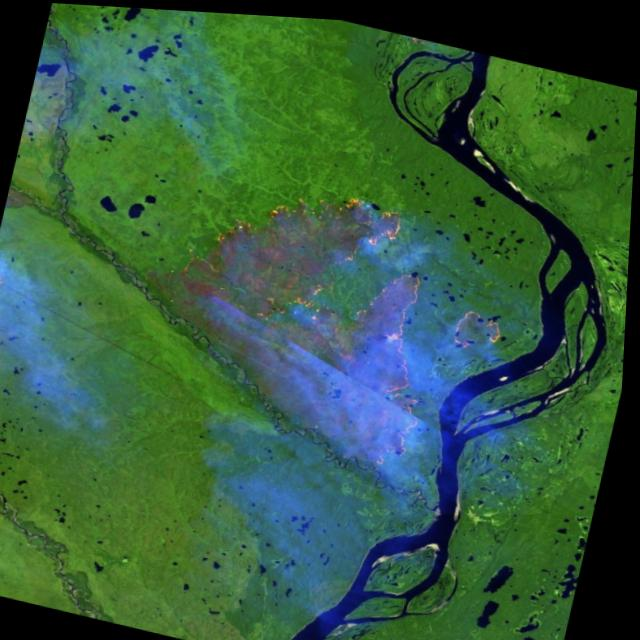fire: (160, 152, 539, 487)
